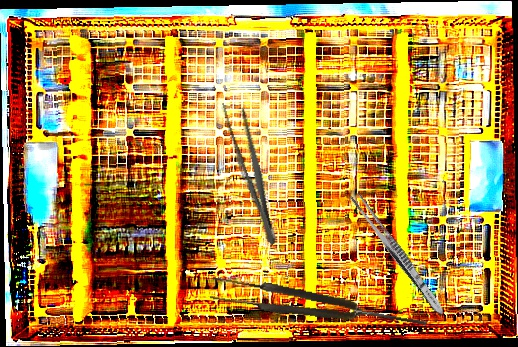Dressing Forceps: (347, 190, 449, 319), (218, 97, 286, 248)
Tissue Forceps: (209, 273, 429, 339)
